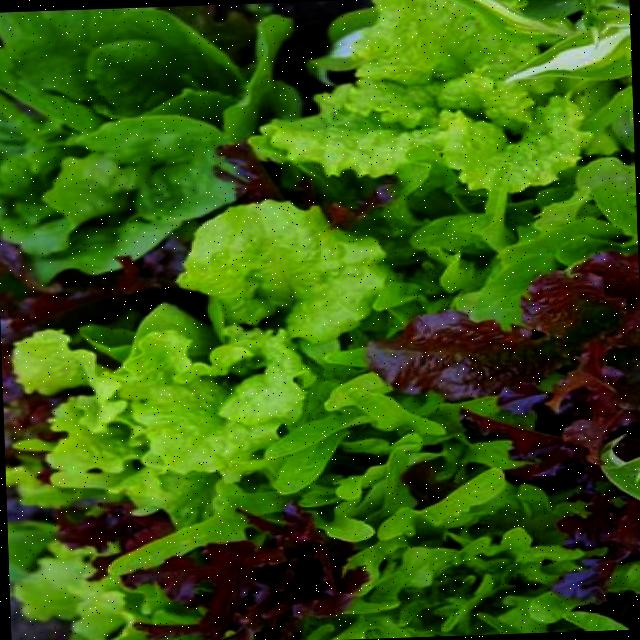healthy: (261, 3, 624, 235), (0, 9, 249, 274), (57, 308, 368, 502)
